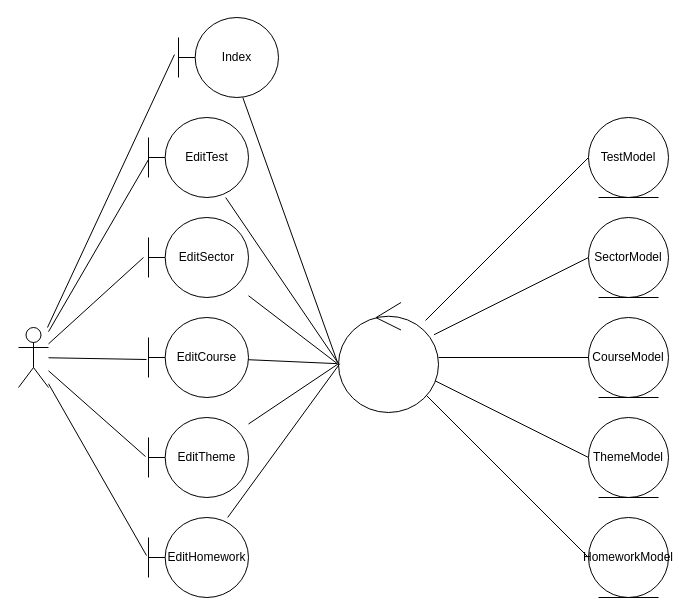
Image size: 691x615. Some labels were removed from this diagram. The shapes that lost their labels are listed below. From the top down, each one's box as (x1, y1, x2, y2) in pixels, then its label:
(18, 326, 48, 388): Автор
(338, 302, 438, 412): CourseController
